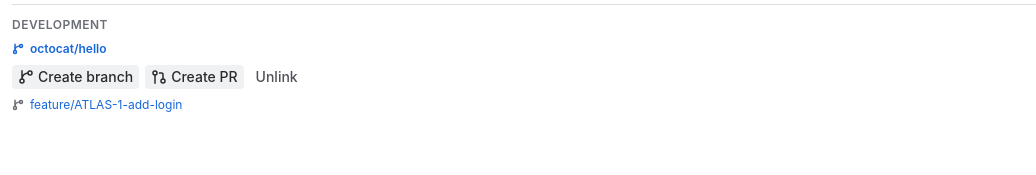
Test: Development › surfaces a create-PR failure instead of silently doing nothing
What coordinates should you click on to do the following:
click the button "Create PR"
I would click on:
 (194, 77)
Its box is [145,65,244,89].
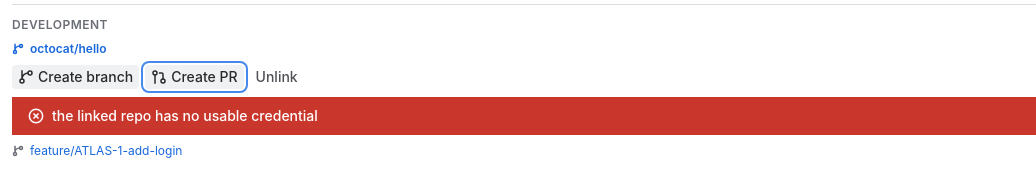
Now the text "the linked repo has no usable credential" is shown, box [52,107,318,124]
